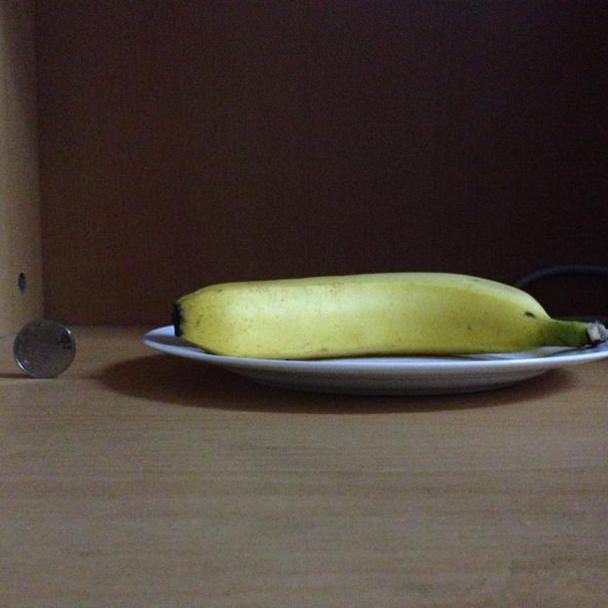banana: (171, 272, 586, 363)
